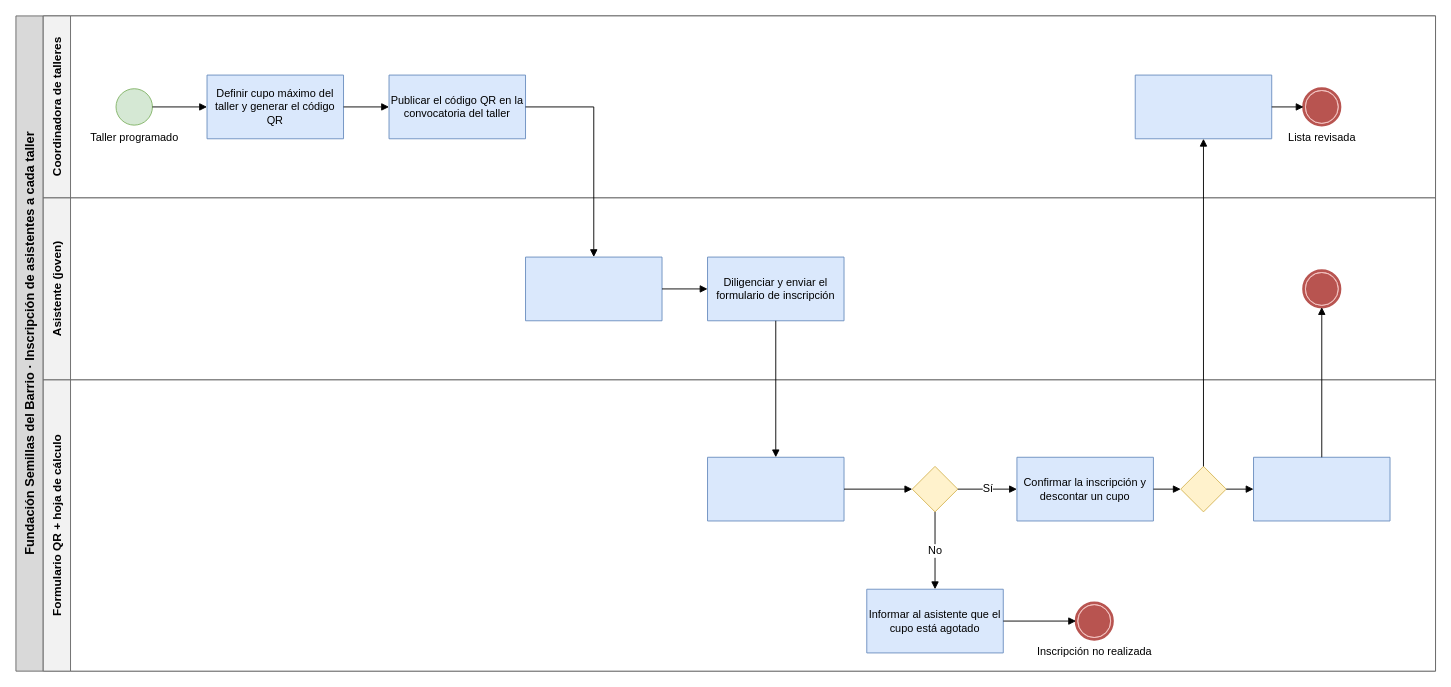
Some shapes in this 1451 by 687 pixel diagram are drawn without their labels. Here are the shapes that lost their labels. From the top down, the box of each, then its label:
(1134, 74, 1272, 139): Consultar lista de inscritos y cupos disponibles
(525, 256, 662, 321): Escanear el código QR con el celular
(1303, 270, 1340, 307): Inscripción confirmada
(707, 456, 844, 521): Registrar la inscripción en la hoja de cálculo
(911, 465, 958, 512): ¿Hay cupos disponibles?
(1253, 456, 1390, 521): Enviar confirmación de inscripción al asistente
